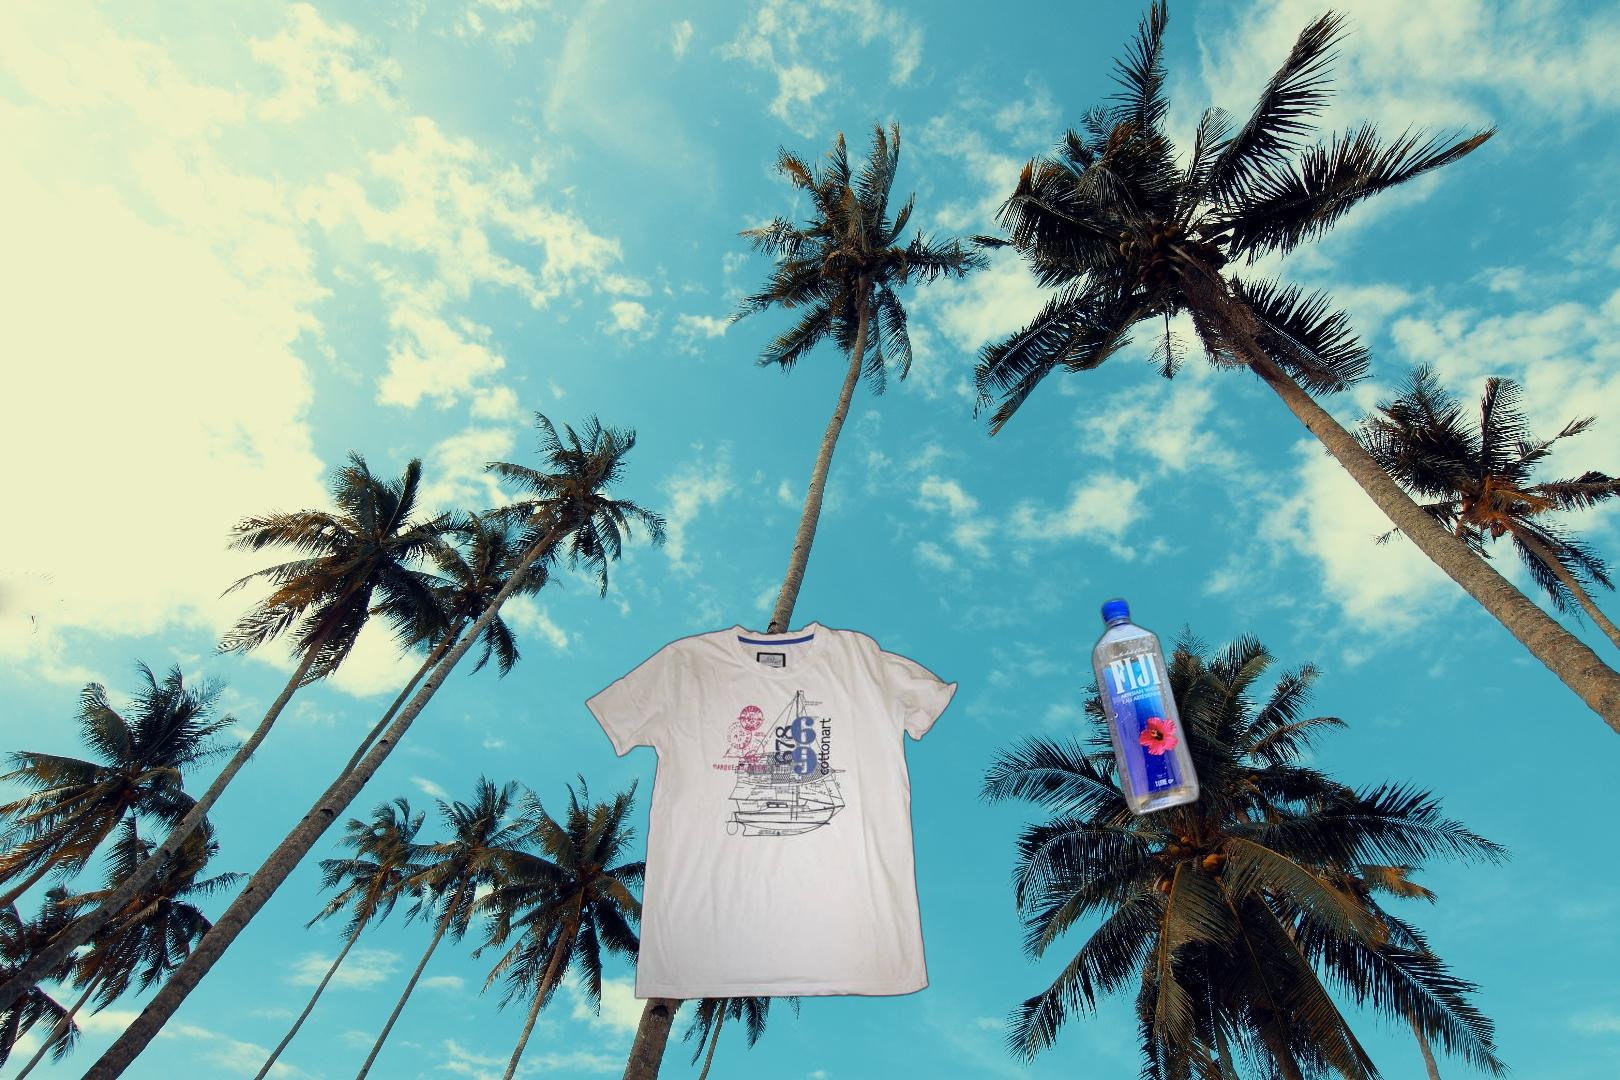clothes: (583, 616, 961, 1005)
plastic-bottles: (1087, 594, 1205, 823)
